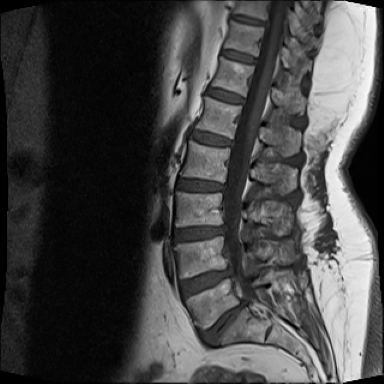Degenerative Disc Disease (DDD): (164, 221, 225, 248), (163, 174, 226, 199)
Lumbar Disc Bulge (LDB): (167, 260, 233, 306), (193, 300, 245, 355)
Normal IVD: (181, 130, 231, 150), (192, 89, 241, 109), (210, 48, 254, 68)
Spinal Stenosis (SS): (208, 218, 226, 241), (215, 263, 231, 284), (207, 179, 224, 197), (251, 17, 267, 35), (230, 296, 243, 314)
Thoracic Disc Bulge (TDB): (217, 10, 266, 32)
